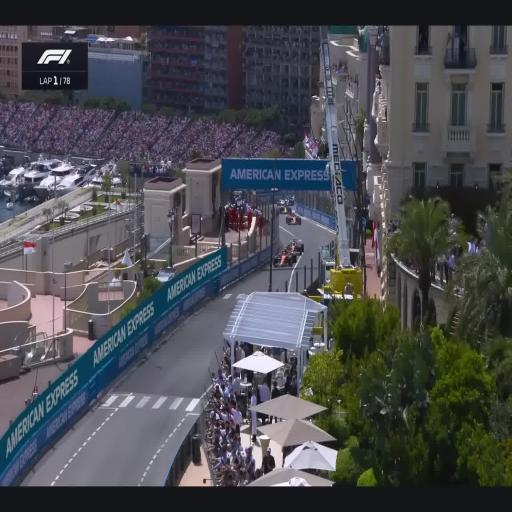f1_car: (273, 247, 297, 266), (286, 238, 304, 253), (286, 212, 301, 224)
